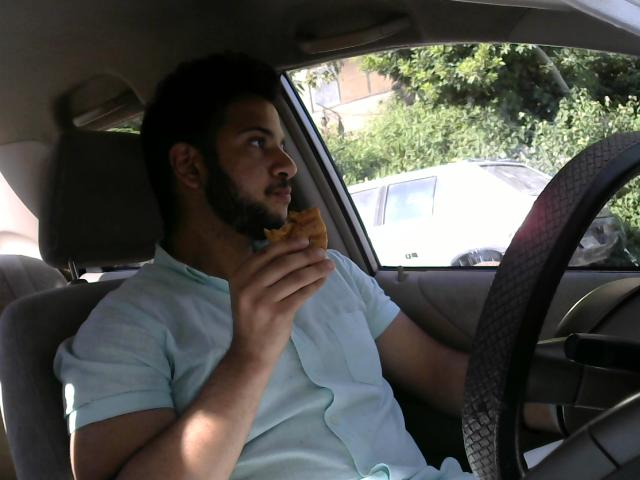Eating: (260, 203, 331, 273)
